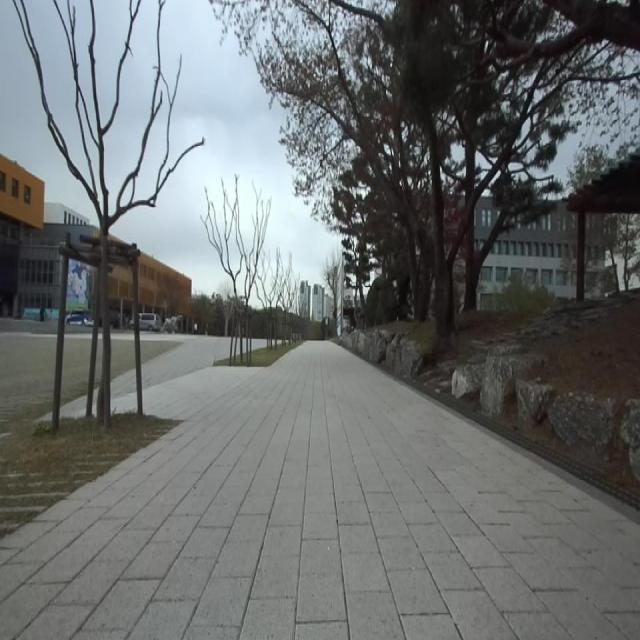sidewalk: (0, 338, 640, 639), (142, 336, 274, 418), (110, 369, 136, 412), (60, 399, 84, 417)
